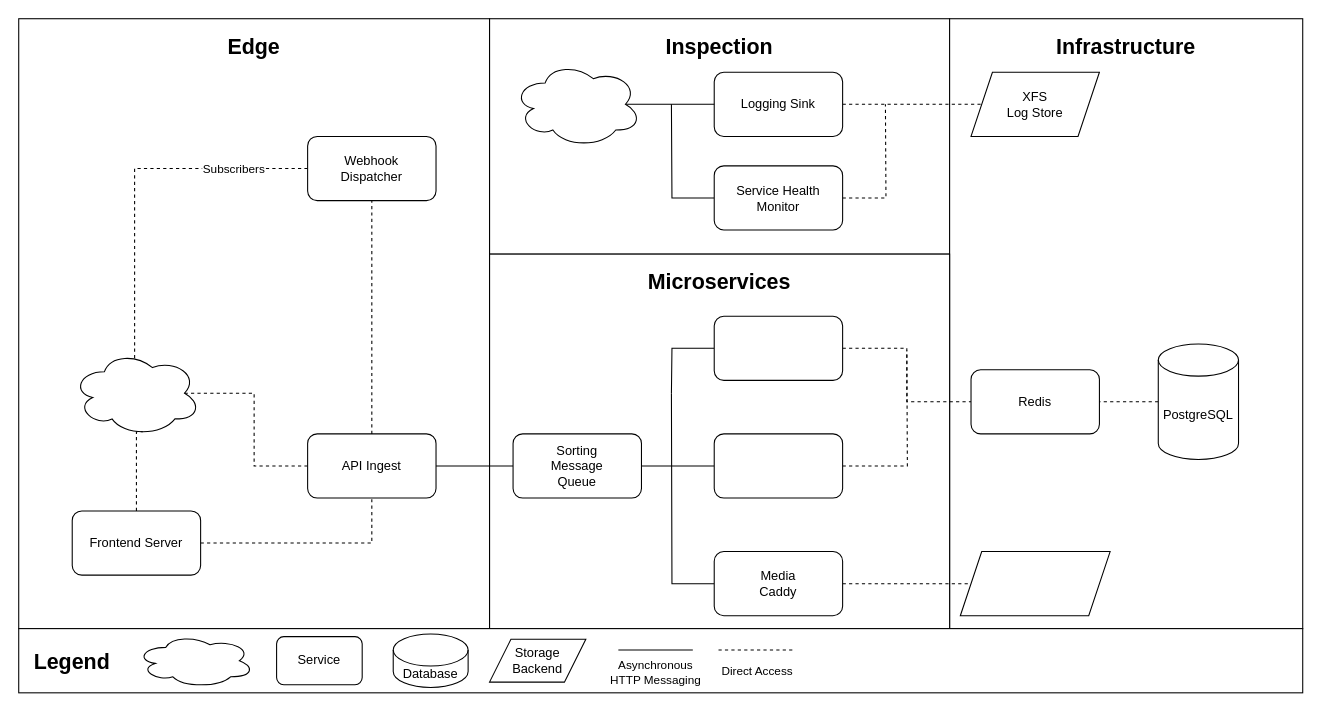
This 1321x712 diagram has some shape labels left out. The shapes that lost their labels are listed below. From the top down, each one's centre as x and y in pixels, then its label:
At (x=576, y=103): "All Services".
At (x=778, y=347): "Account Manager".
At (x=136, y=392): "Internet".
At (x=778, y=465): "Timeline Builder".
At (x=1034, y=583): "ZFS Deduplicating Sparse Journaling".
At (x=194, y=660): "Abstract Source".
